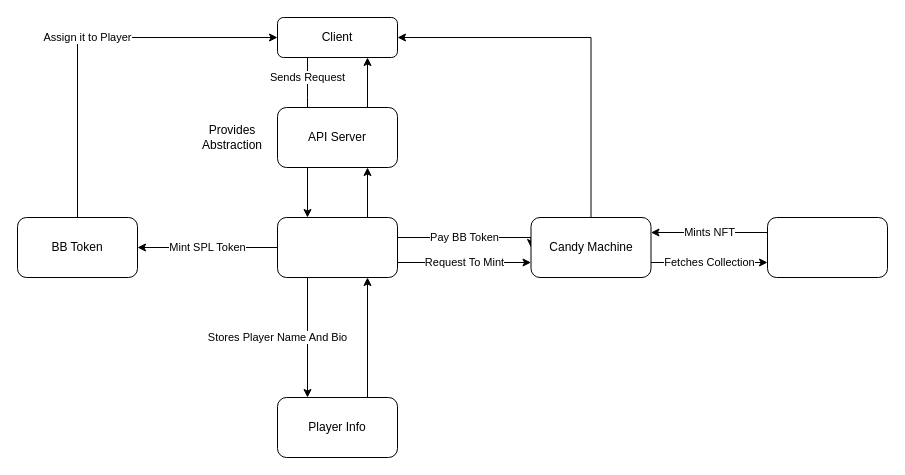
Some shapes in this 905 by 475 pixel diagram are drawn without their labels. Here are the shapes that lost their labels. From the top down, the centre of each, then its label:
[337,247]: Solana Blockchain
[827,247]: BitBuild NFT Collection
